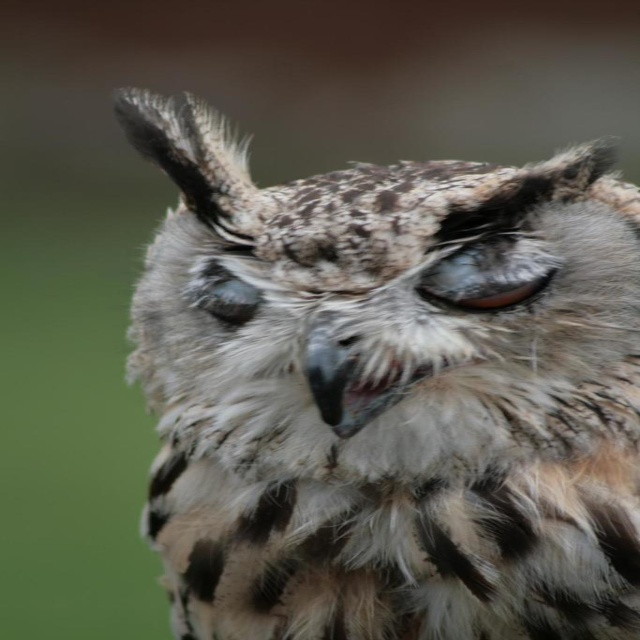Owl: (104, 84, 639, 640)
